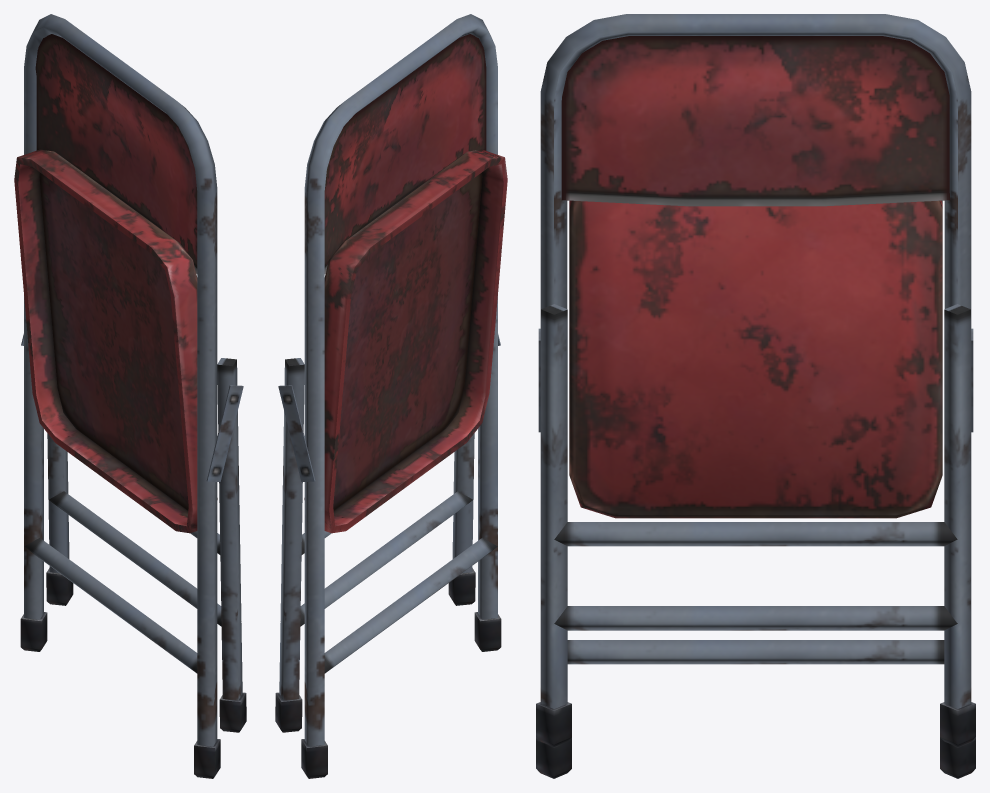
Rendered from chair10_B.fbx.
The picture shows the model from 3 angles, left to right: view 1: azimuth 30°, elevation 25°; view 2: azimuth 150°, elevation 25°; view 3: azimuth 270°, elevation 25°; orthographic projection. The views are drawn at different scales.
Visible parts, largest first — view 1: chair10_B; view 2: chair10_B; view 3: chair10_B.
Part boxes in pixels (bbox=[...]): chair10_B: bbox=[14, 14, 246, 778]; chair10_B: bbox=[275, 14, 507, 778]; chair10_B: bbox=[536, 14, 975, 778].
Size of the model in its own units: 10.02 by 91.2 by 47.69.
